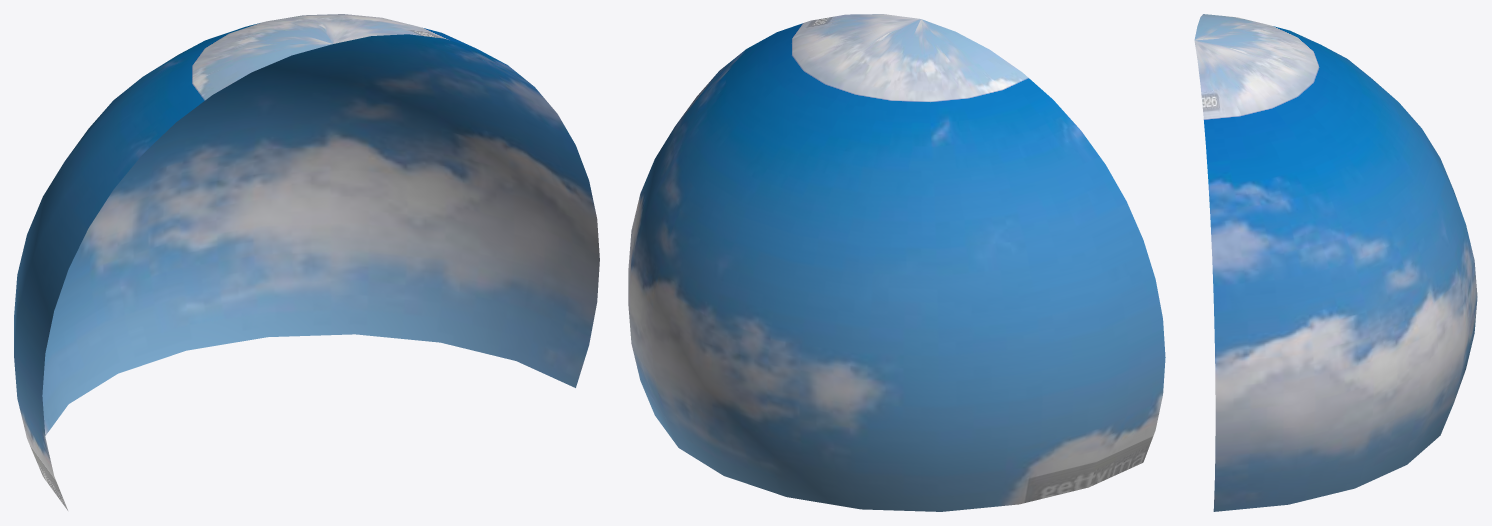
Rendered from skybox.glb.
3 views of the same model, side by side, from view 1: azimuth 30°, elevation 25°; view 2: azimuth 150°, elevation 25°; view 3: azimuth 270°, elevation 25° (orthographic). The views are drawn at different scales.
Visible parts, largest first — view 1: Sphere; view 2: Sphere; view 3: Sphere.
Boxes of the visible parts, left/top/right/bottom form: Sphere: left=14, top=14, right=599, bottom=510; Sphere: left=628, top=14, right=1165, bottom=511; Sphere: left=1194, top=14, right=1477, bottom=511.
Bounding box in the file's own units: 1.99 × 1.42 × 1.
1 material, 1 textured.
